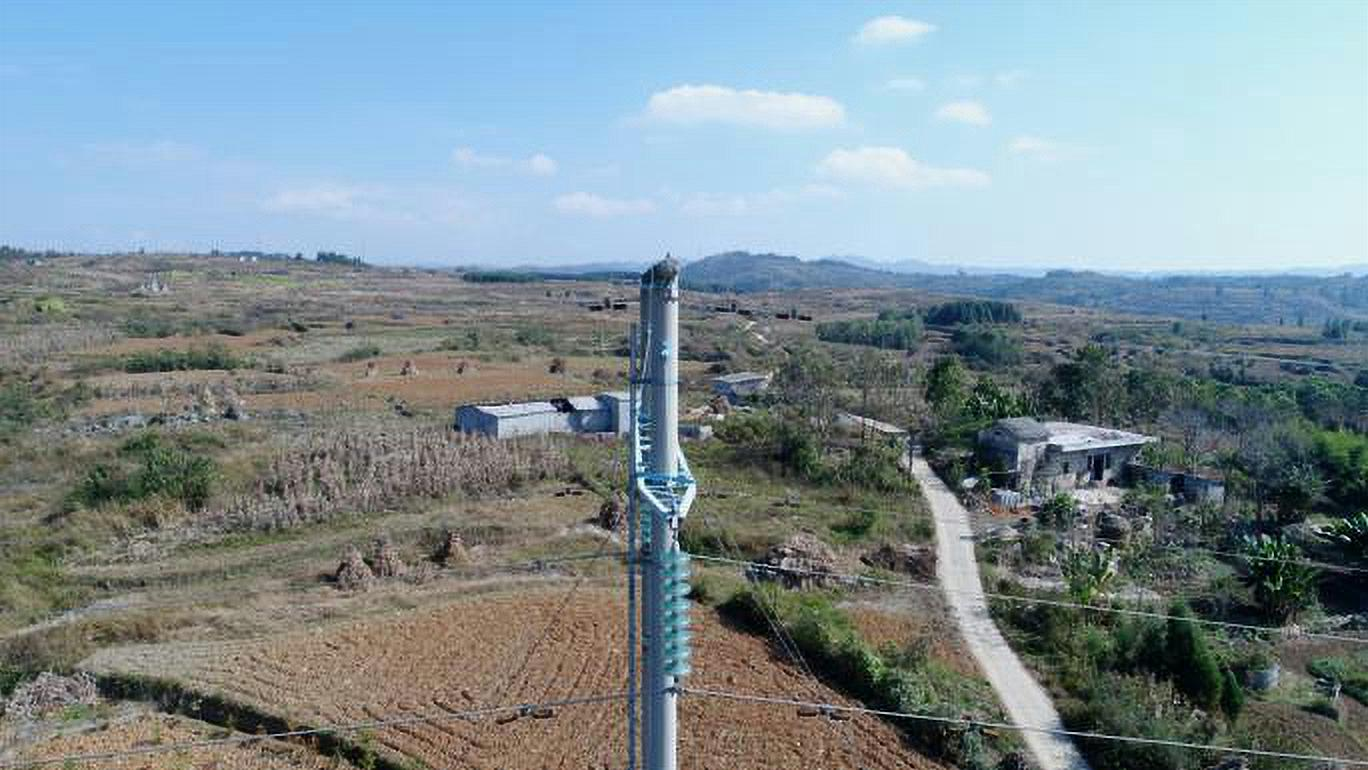insulator: (654, 547, 697, 679)
